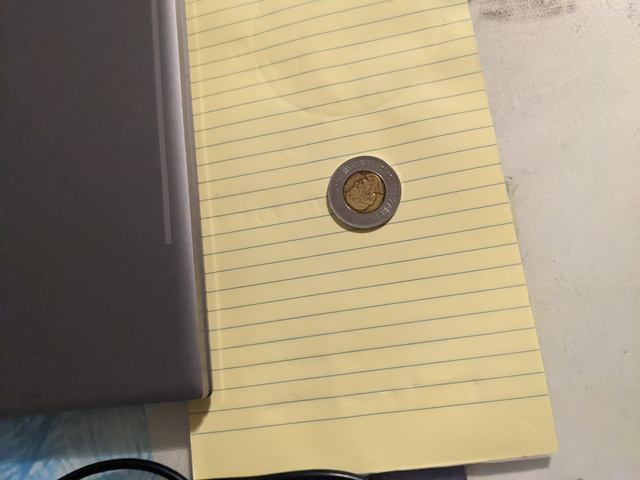twonie: (322, 154, 410, 233)
